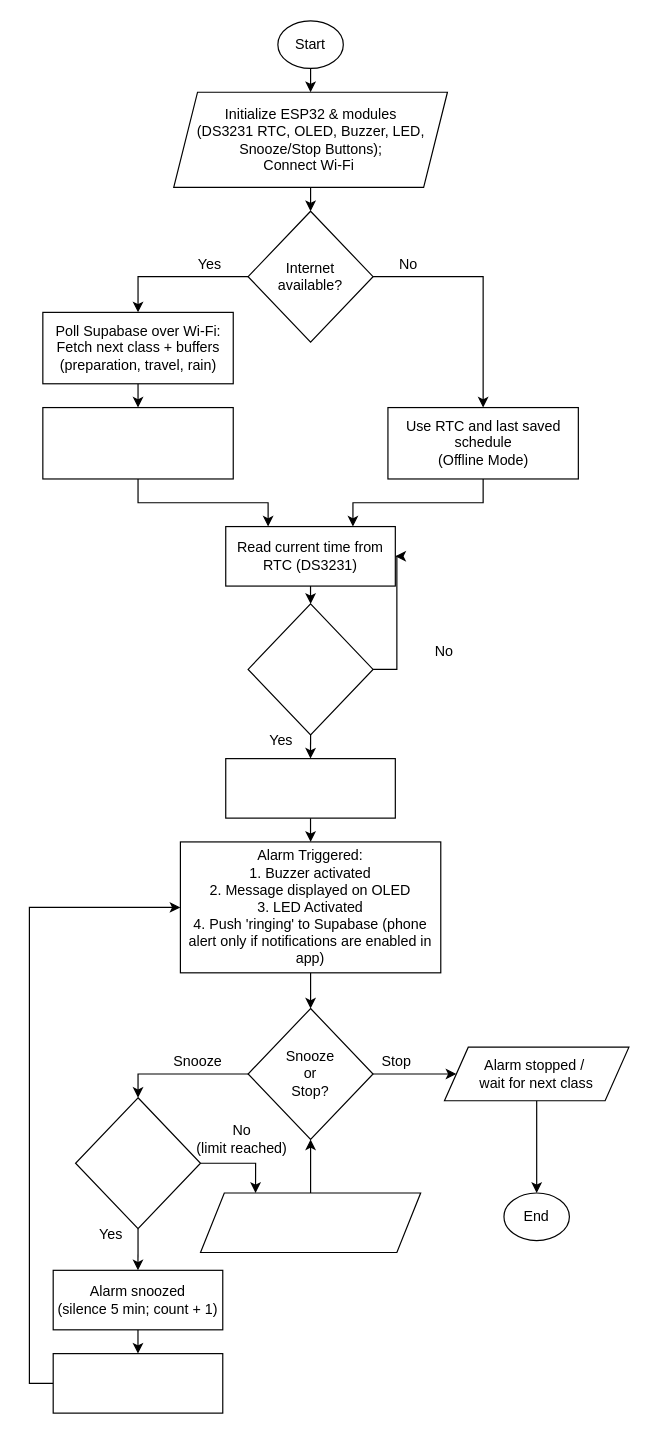
The diagram is 650 pixels wide and 1434 high, and some of its shapes have lost their labels. The centre of each missing label's shape, as x and y in pixels:
"5 min timer" belongs at (x=137, y=1382).
"Compute wake time = Lecture - (prep + travel + rain)" belongs at (x=137, y=442).
"Reset snooze count = 0" belongs at (x=310, y=787).
"Snooze < 3?" belongs at (x=137, y=1163).
"Snooze limit reached - press STOP (keeps ringing)" belongs at (x=310, y=1222).
"Wake time reached?" belongs at (x=310, y=669).
